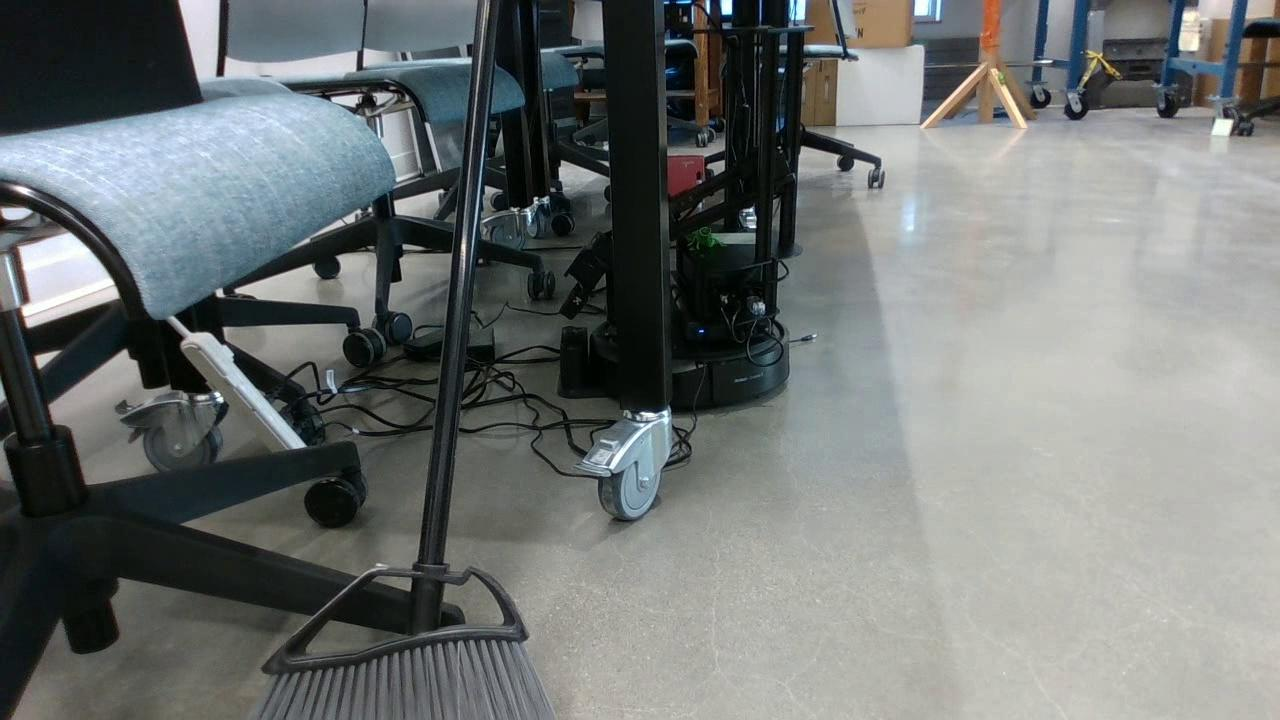grasshopper: (682, 223, 726, 248)
